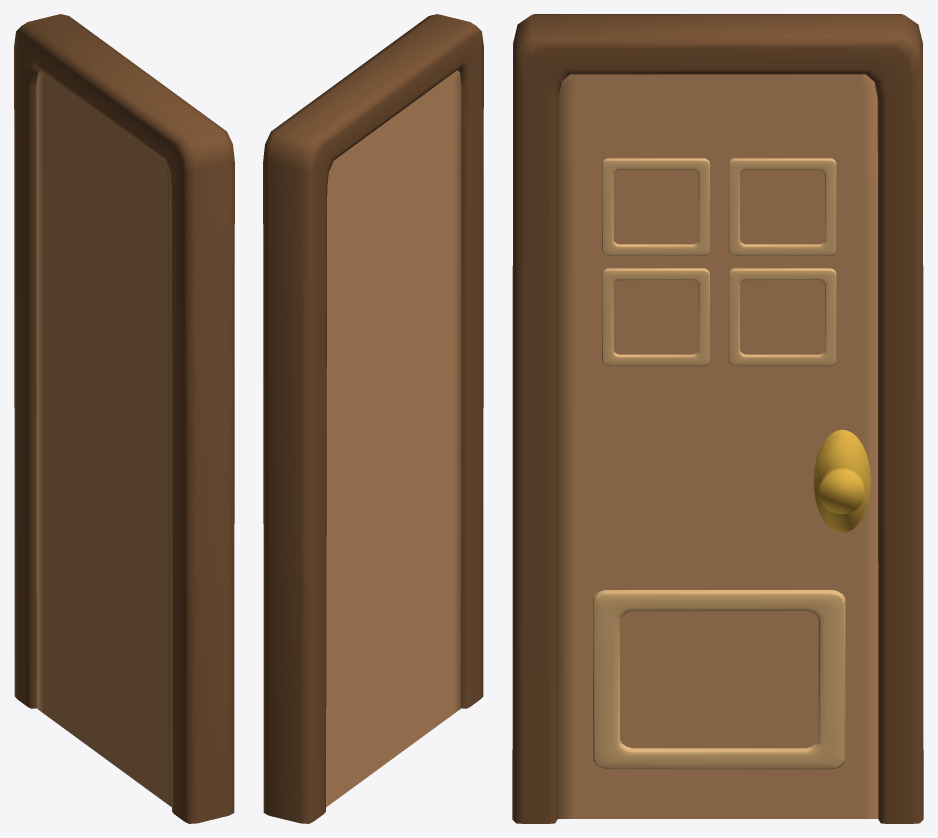
Rendered from 3DModel_Door.glb.
The picture shows the model from 3 angles, left to right: view 1: azimuth 30°, elevation 25°; view 2: azimuth 150°, elevation 25°; view 3: azimuth 270°, elevation 25°; orthographic projection. The views are drawn at different scales.
Parts seen in each view (by area): view 1: Door_Knob.002, Door_Frame.002; view 2: Door_Knob.002, Door_Frame.002; view 3: Door_Knob.002, Door_Frame.002.
Boxes of the visible parts, box(x1,y1,x2,y2) form: Door_Knob.002: box(36, 70, 171, 807); Door_Frame.002: box(14, 14, 234, 823); Door_Knob.002: box(326, 70, 461, 807); Door_Frame.002: box(263, 14, 483, 823); Door_Knob.002: box(557, 74, 878, 818); Door_Frame.002: box(512, 14, 923, 823).
Bounding box in the file's own units: 0.1976 × 2 × 0.9463.
